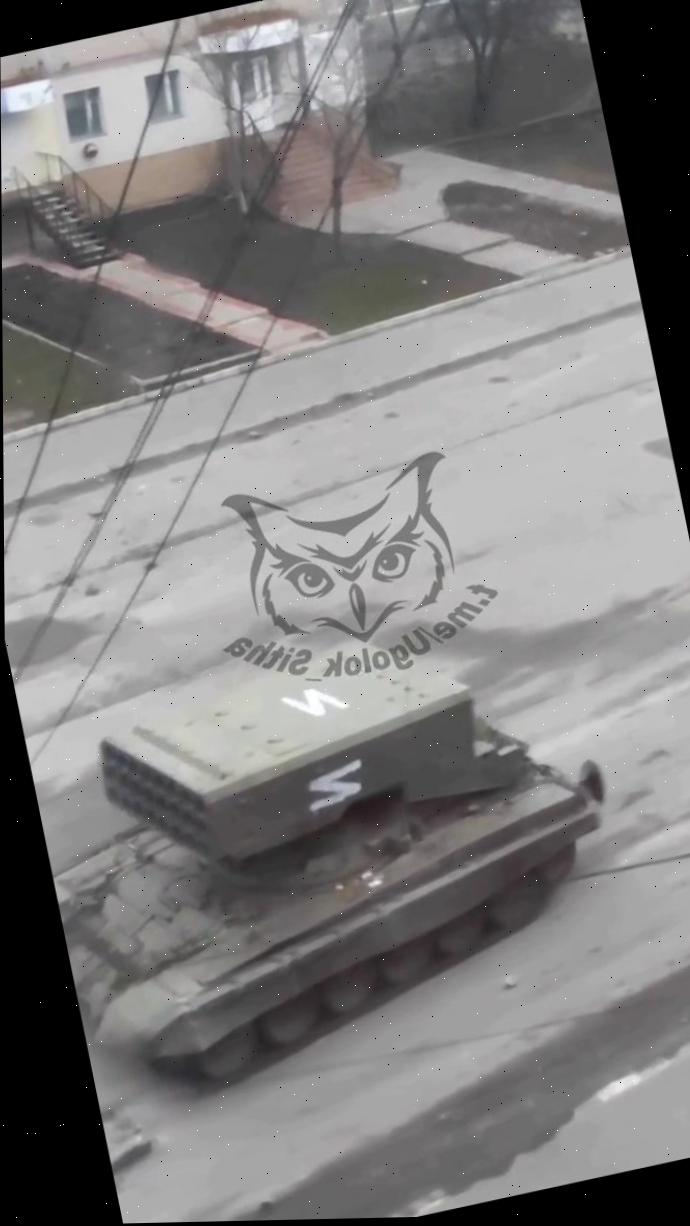rszo: (16, 584, 654, 1120)
